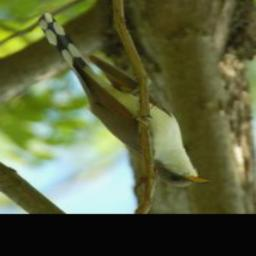Cuckoo: (40, 14, 209, 188)
